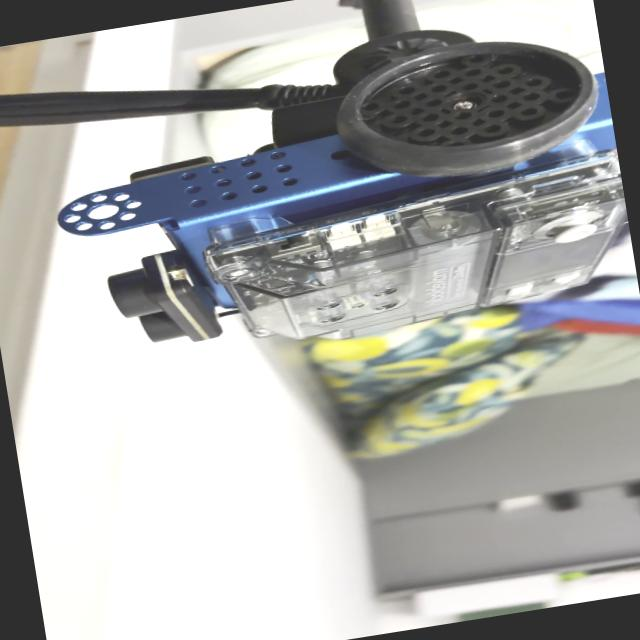mbot-detection: (39, 14, 640, 389)
